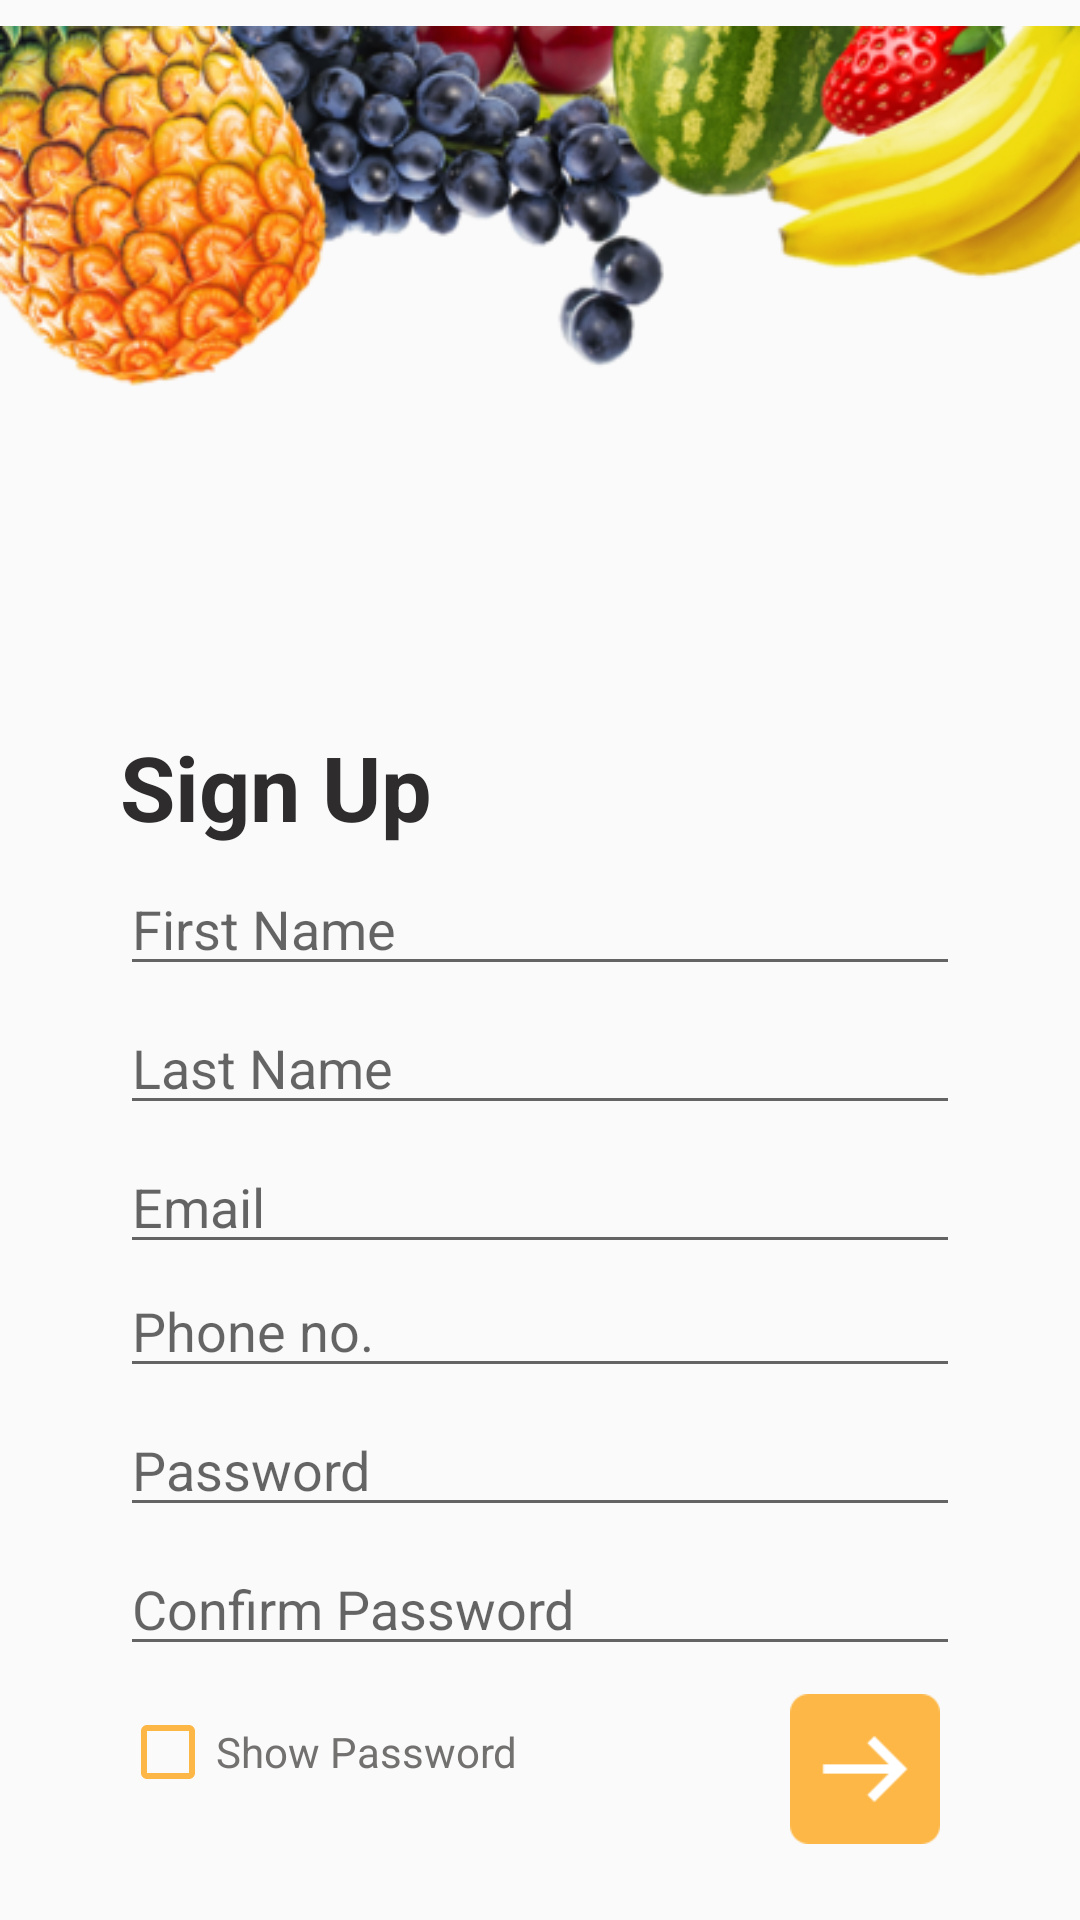

Icon click points for this 1080px x 1920px phone screenshot, format (x,y):
doneicon: (865,1769)
